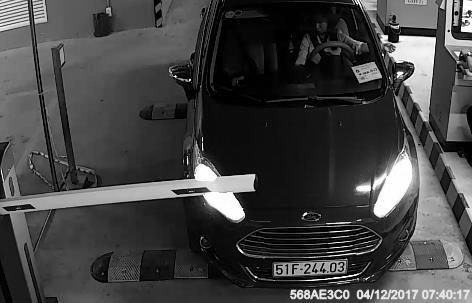License-plate: (268, 253, 357, 287)
